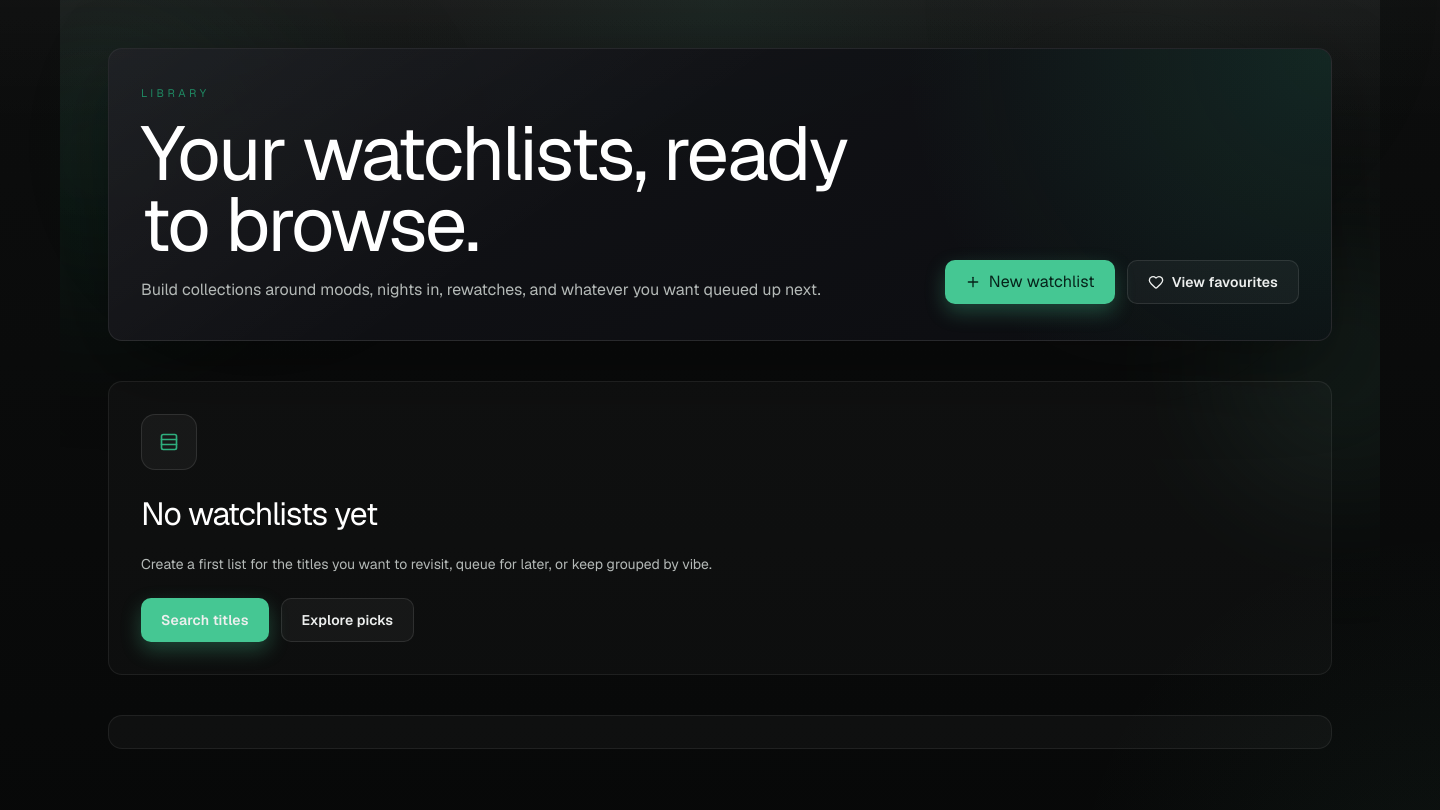
Test: WatchlistsPage › creates a watchlist and updates the visible list
Expected: the heading "No watchlists yet" is shown, [141,493,377,534]
Click the button "New watchlist" at (1030,282), box [945,260,1115,304]
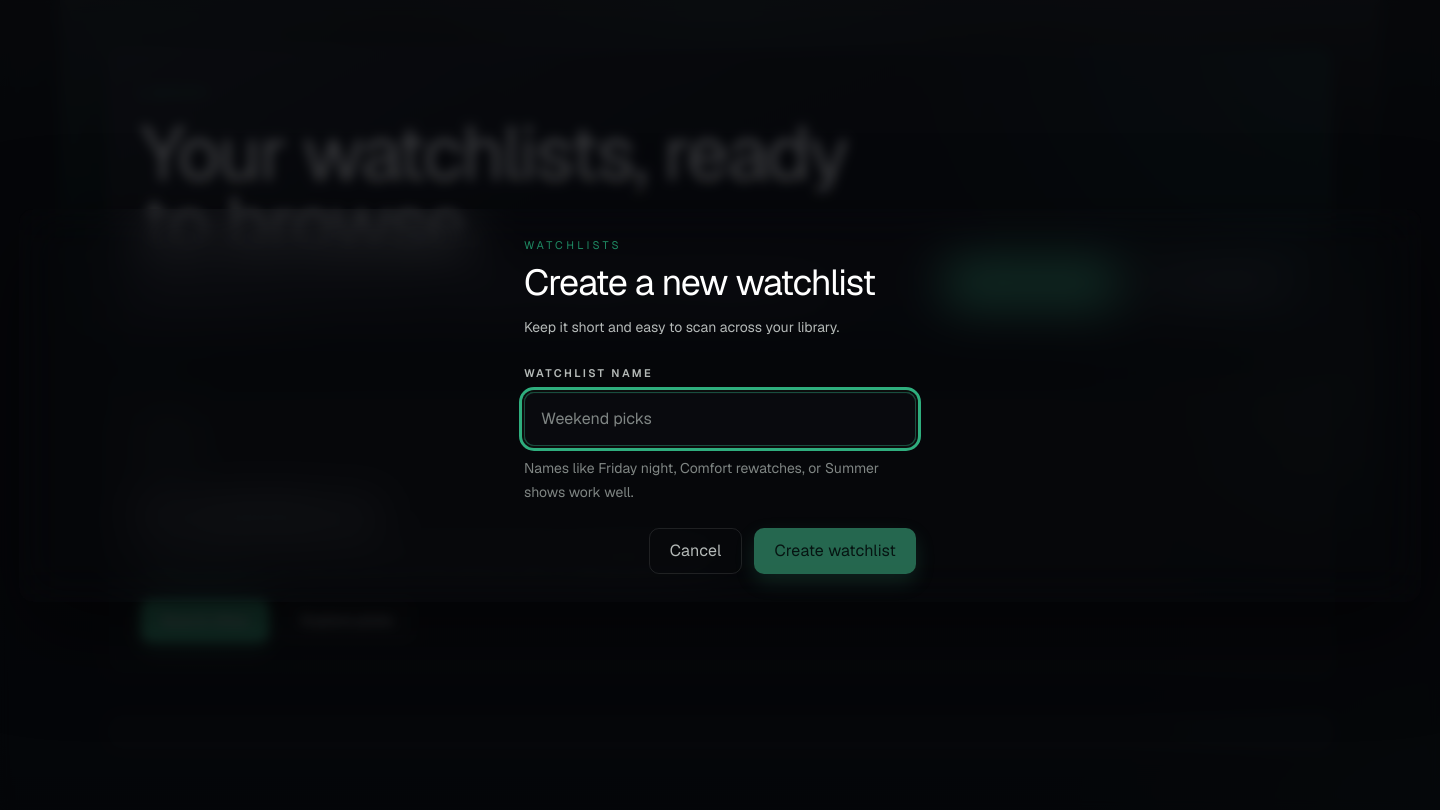
Type "Friday night" into the field with placeholder "Weekend picks" at (720,418), box [524,392,916,446]
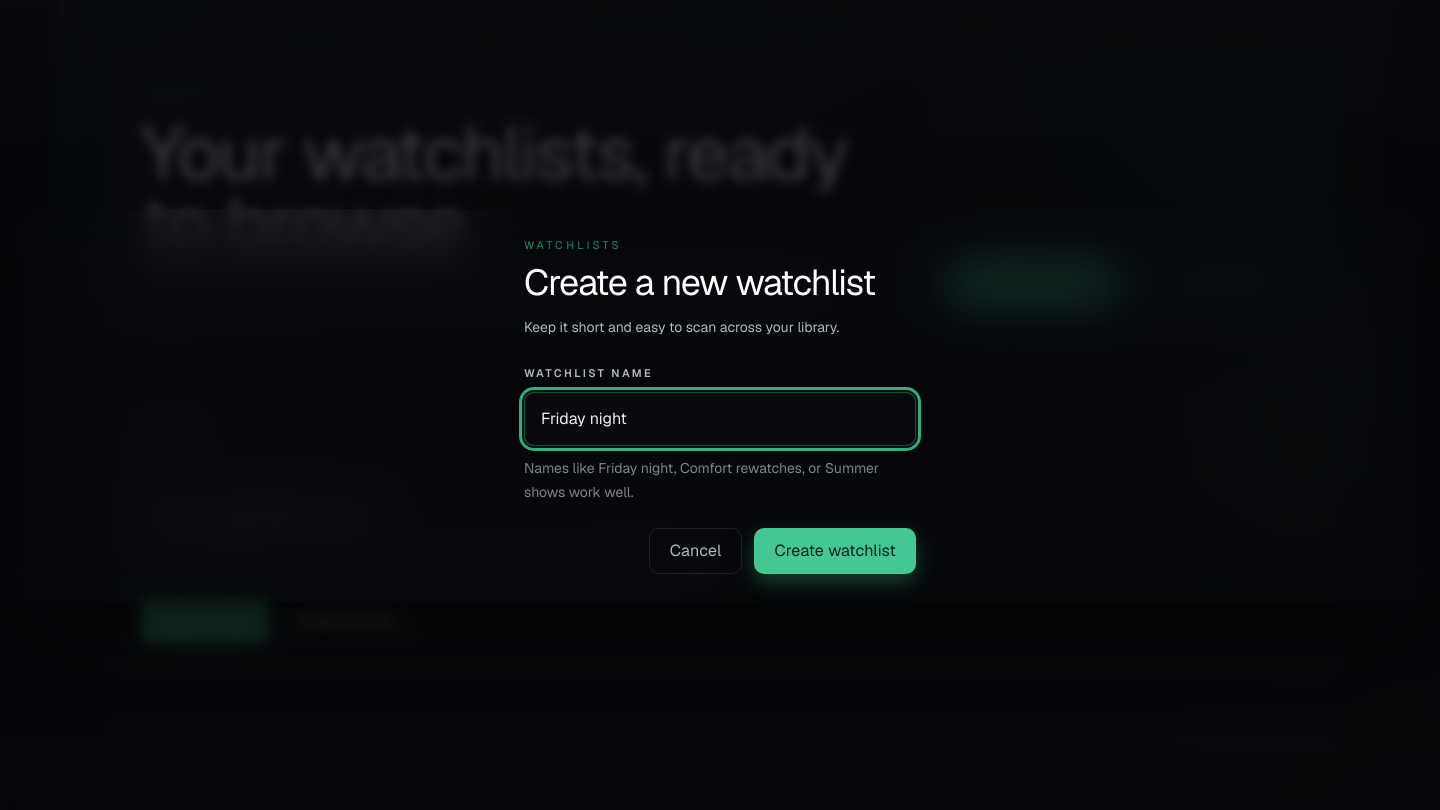
Click the button "Create watchlist" at (835,550), box [754,528,916,574]
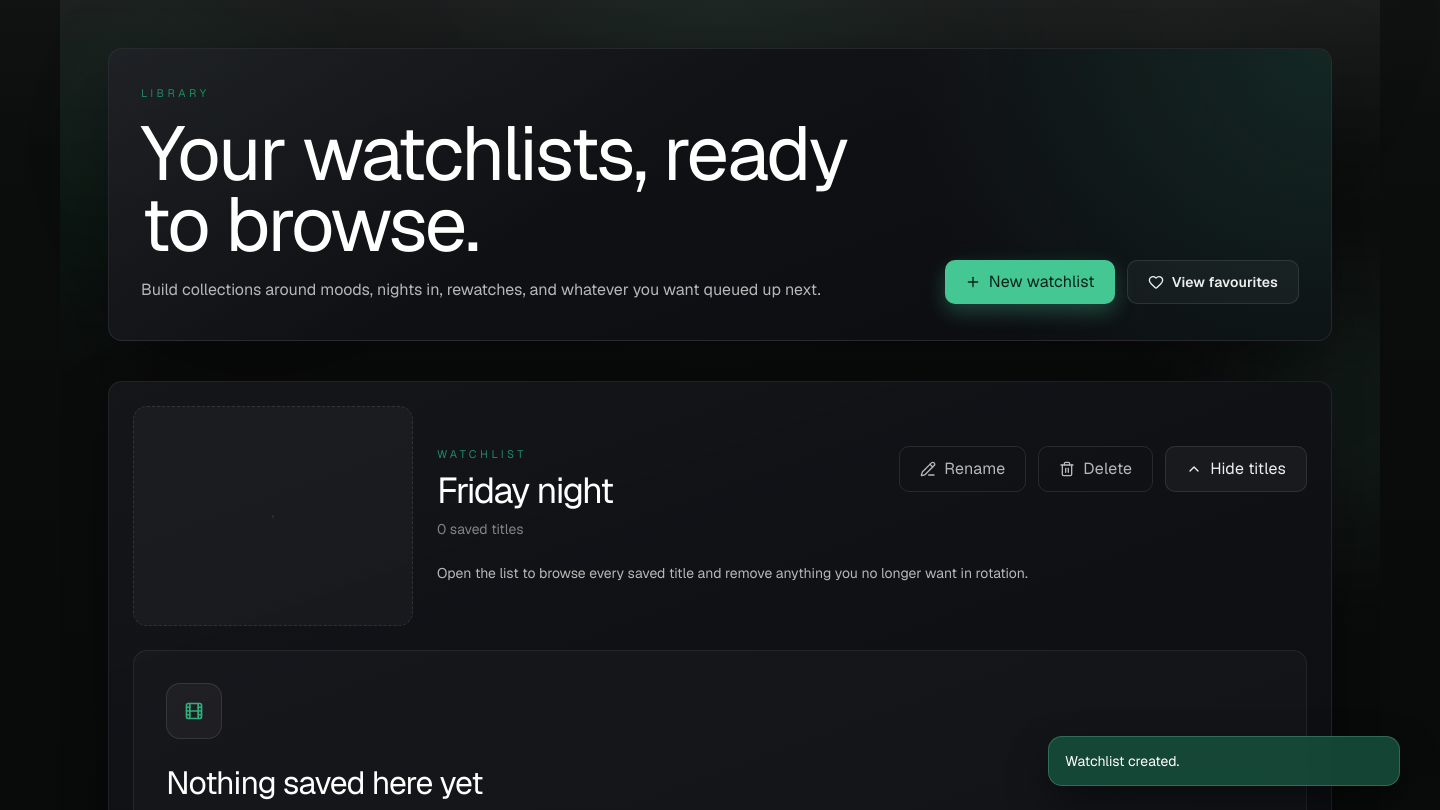
Expected: the heading "Friday night" is shown, [437,471,613,511]
